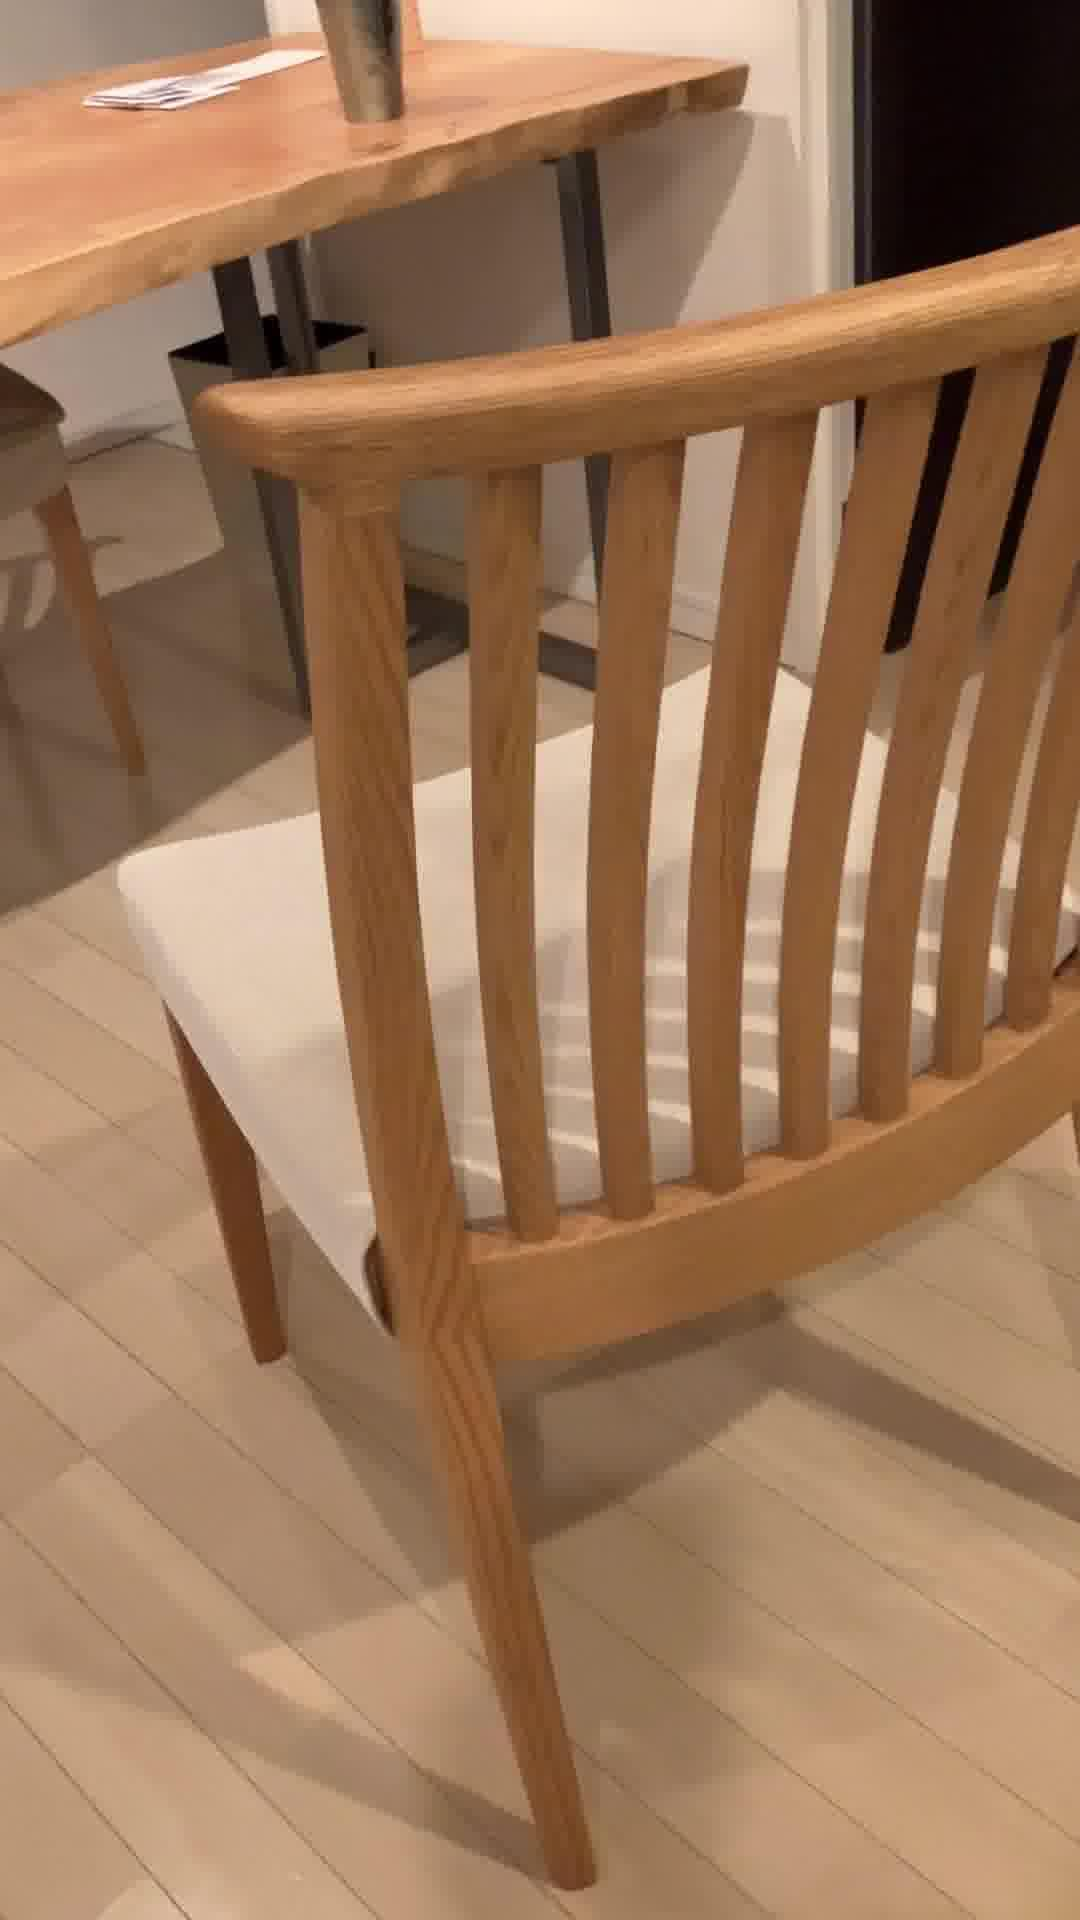takumikan-chair: (108, 219, 1080, 1891)
